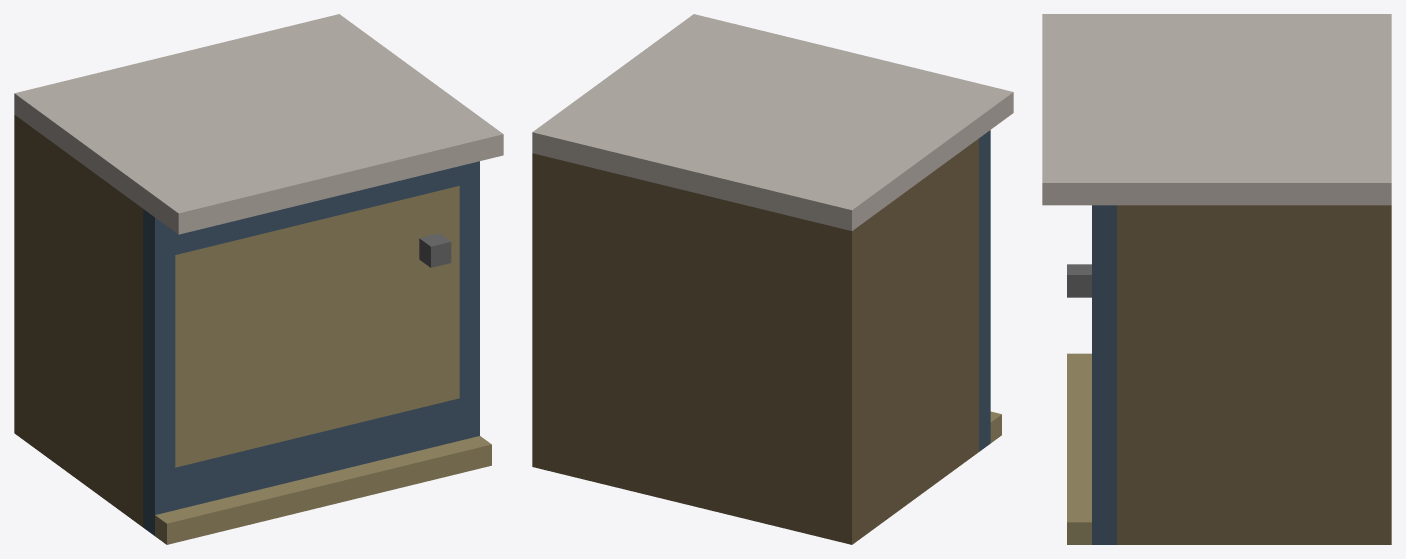
Rendered from CounterCupboard1.obj.
The picture shows the model from 3 angles, left to right: view 1: azimuth 30°, elevation 25°; view 2: azimuth 150°, elevation 25°; view 3: azimuth 270°, elevation 25°; orthographic projection. The views are drawn at different scales.
Visible parts, largest first — view 1: CounterCupboard1; view 2: CounterCupboard1; view 3: CounterCupboard1.
Boxes of the visible parts, x1,y1,x2,y2 form: CounterCupboard1: (14, 14, 503, 544); CounterCupboard1: (532, 14, 1013, 544); CounterCupboard1: (1042, 14, 1391, 544).
Bounding box in the file's own units: 16 × 16 × 14.
Materials: 1 (1 with a texture image).
